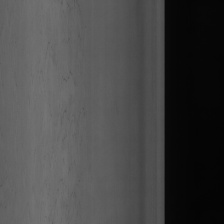silk_spot: (38, 39, 87, 172)
